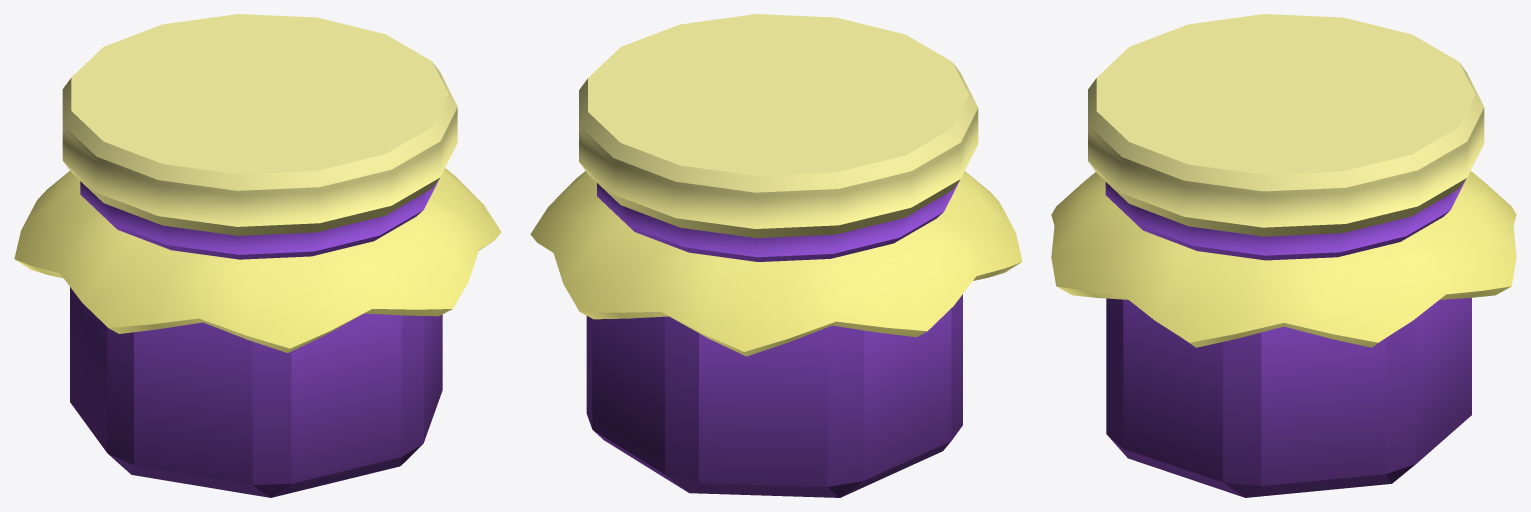
Rendered from jam_purple.fbx.
The picture shows the model from 3 angles, left to right: view 1: azimuth 30°, elevation 25°; view 2: azimuth 150°, elevation 25°; view 3: azimuth 270°, elevation 25°; orthographic projection.
Visible parts, largest first — view 1: jam_purple; view 2: jam_purple; view 3: jam_purple.
Boxes of the visible parts, bbox=[...] form: jam_purple: bbox=[14, 14, 501, 497]; jam_purple: bbox=[530, 14, 1022, 497]; jam_purple: bbox=[1051, 14, 1516, 497].
Bounding box in the file's own units: 65.2 × 51.35 × 65.2.
